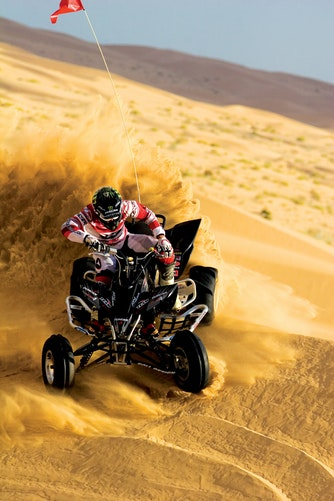helmet: (90, 188, 128, 231)
